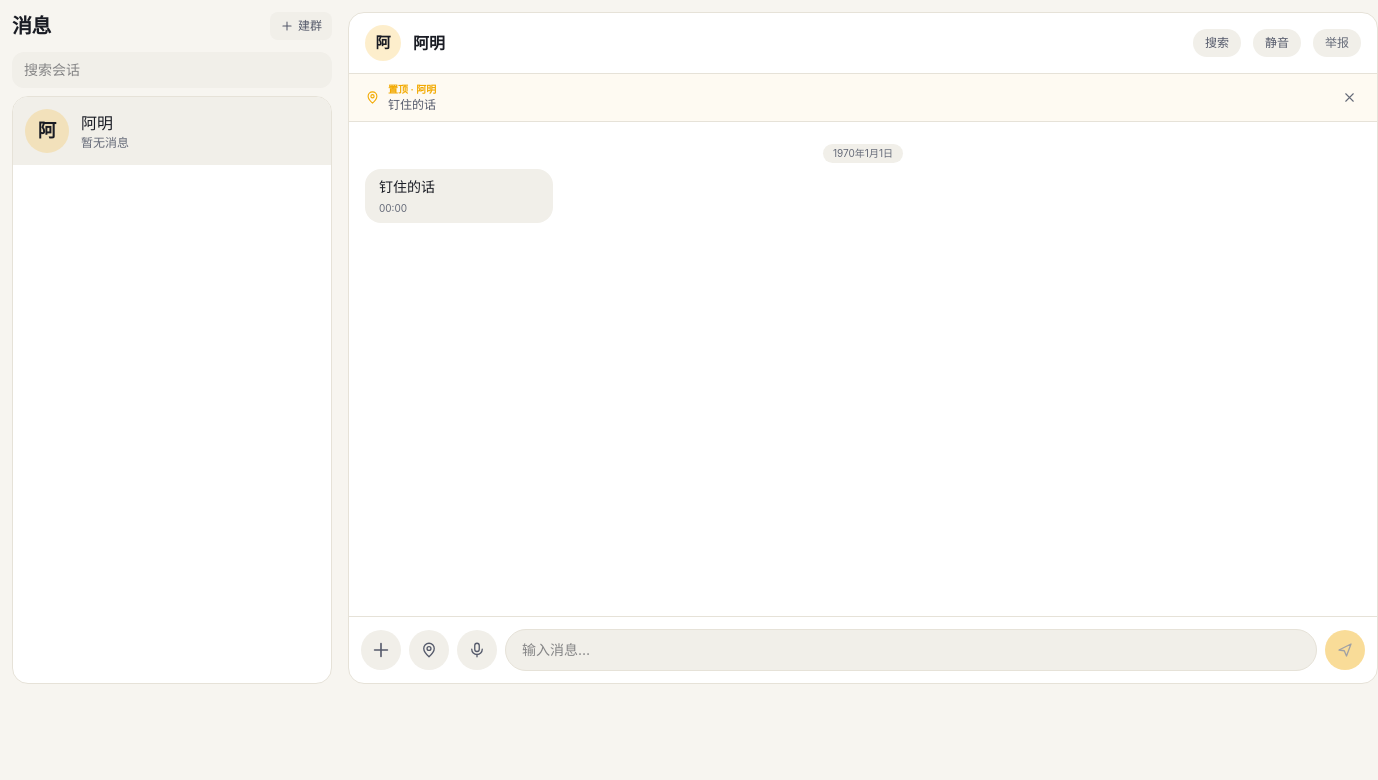
Scenario: ChatPage 置顶消息横幅 › 点横幅 X → api.unpinMessage(置顶消息 id)，横幅消失（服务端随后回 pinned=null）
Click the button named "取消置顶" at coordinates (1350, 98), box [1338,86,1361,109]
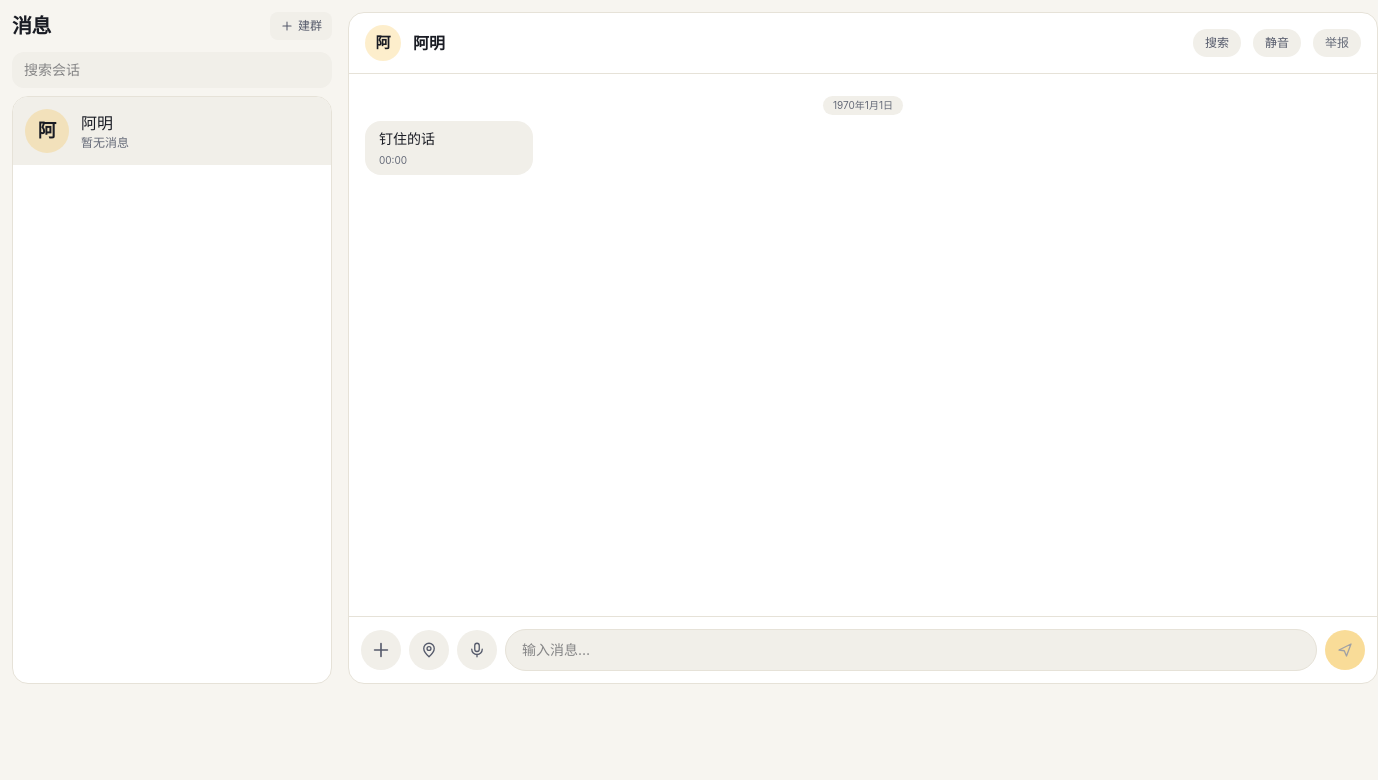
Expected: the element with test id "pinned-banner" is gone
